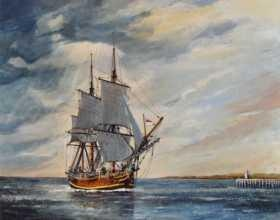fanchuan: (64, 40, 167, 191)
